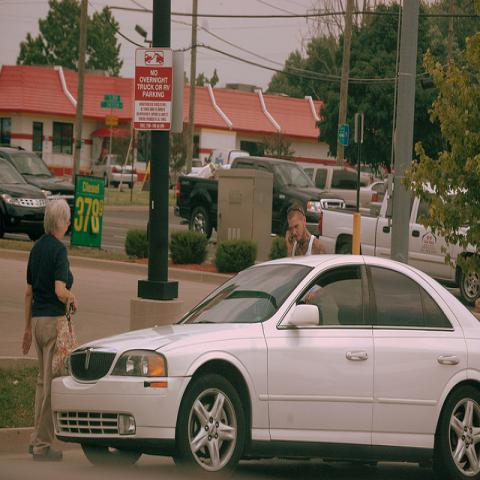car: (53, 250, 480, 476), (0, 144, 75, 242), (88, 154, 137, 189), (359, 178, 388, 220), (192, 159, 204, 176)
truck: (317, 180, 479, 306), (173, 156, 345, 240), (300, 163, 358, 211), (185, 150, 251, 175)
